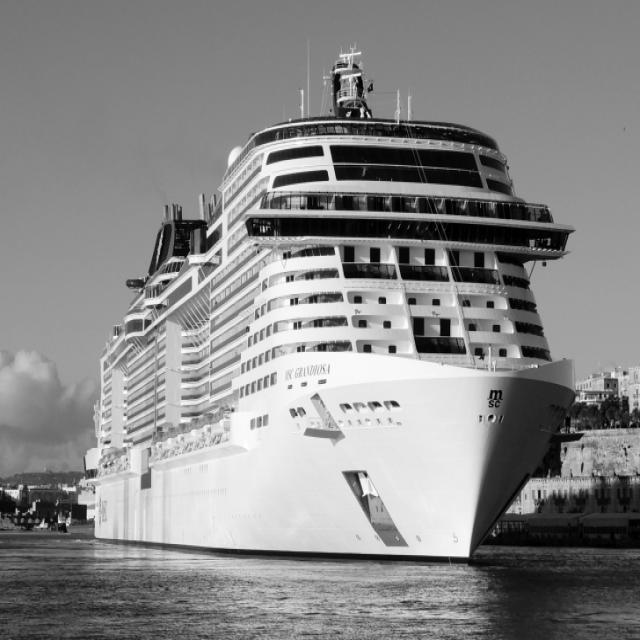cruises: (77, 47, 581, 572)
